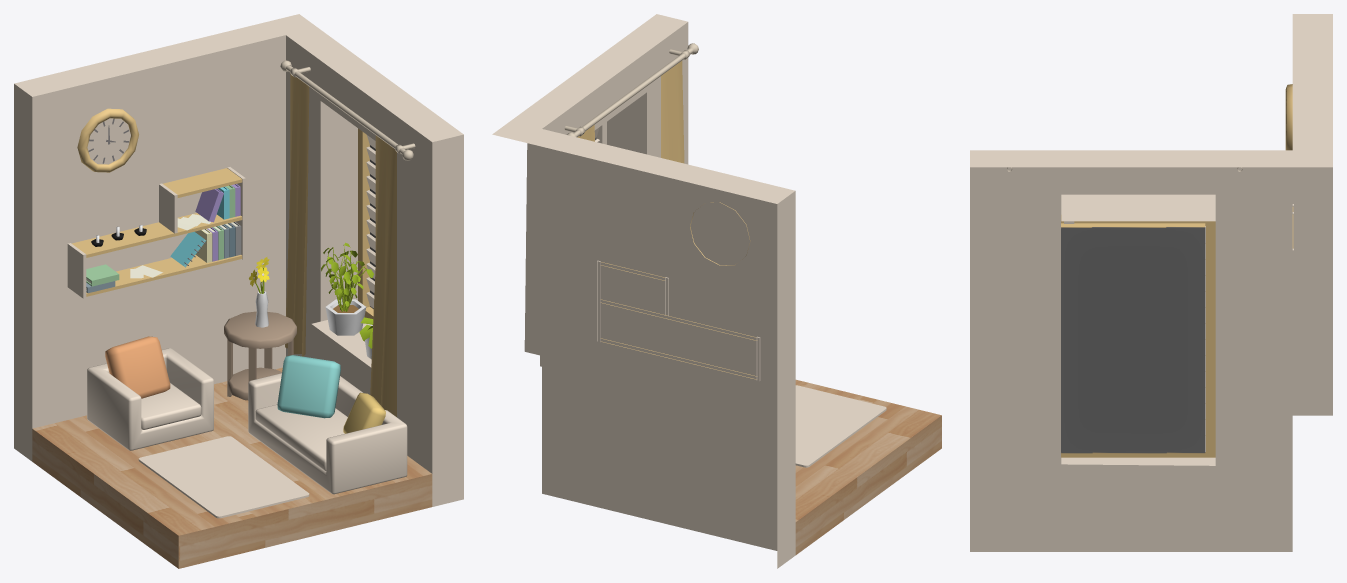
File: kikiroom02_re.glb
3 views of the same model, side by side, from view 1: azimuth 30°, elevation 25°; view 2: azimuth 150°, elevation 25°; view 3: azimuth 270°, elevation 25° (orthographic). The views are drawn at different scales.
Visible parts, largest first — view 1: floor.001; view 2: floor.001; view 3: floor.001.
Part boxes in pixels (x1=…): floor.001: x1=14, y1=14, x2=463, y2=568; floor.001: x1=492, y1=14, x2=941, y2=568; floor.001: x1=970, y1=14, x2=1332, y2=551.
Size of the model in its own units: 3.09 by 3.52 by 2.88.
Materials: 1 (1 with a texture image).
